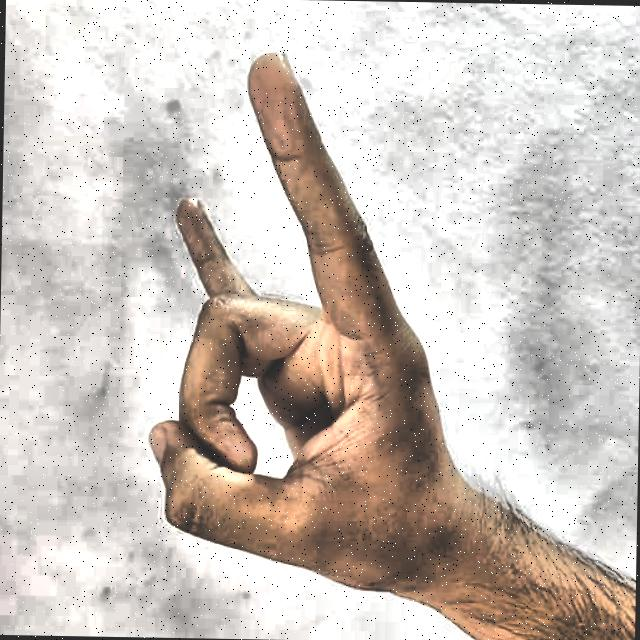Cha: (107, 34, 519, 640)
